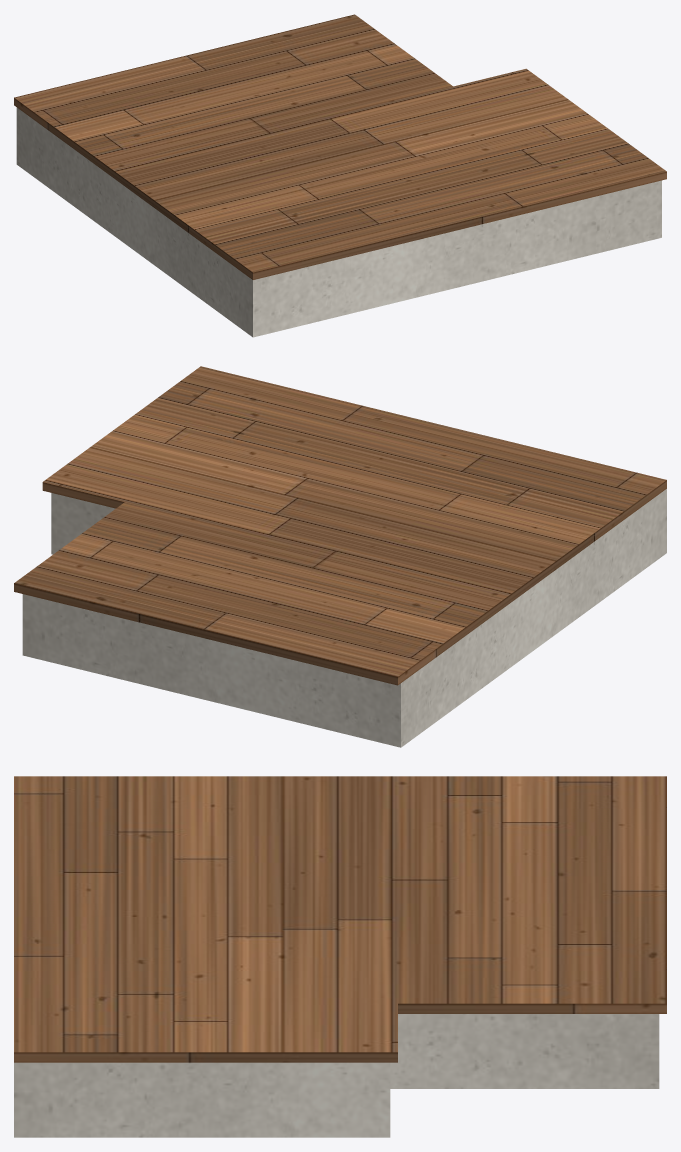
The model's file is floor_floor_u_e1001_h2.glb.
3 renders of one model, top to bottom at view 1: azimuth 30°, elevation 25°; view 2: azimuth 150°, elevation 25°; view 3: azimuth 270°, elevation 25°, orthographic. The views are drawn at different scales.
Parts seen in each view (by area): view 1: floor_floor_u_e1001_h2_floor, floor_floor_u_e1001_h2_plaster; view 2: floor_floor_u_e1001_h2_floor, floor_floor_u_e1001_h2_plaster; view 3: floor_floor_u_e1001_h2_floor, floor_floor_u_e1001_h2_plaster.
Boxes of the visible parts, <box> form: floor_floor_u_e1001_h2_floor: <box>14,14,666,279</box>; floor_floor_u_e1001_h2_plaster: <box>16,107,661,337</box>; floor_floor_u_e1001_h2_floor: <box>14,366,666,685</box>; floor_floor_u_e1001_h2_plaster: <box>22,489,666,747</box>; floor_floor_u_e1001_h2_floor: <box>14,776,666,1062</box>; floor_floor_u_e1001_h2_plaster: <box>14,1014,659,1137</box>.
Size of the model in its own units: 1.7 by 0.255 by 1.7.
2 materials, 2 textured.
